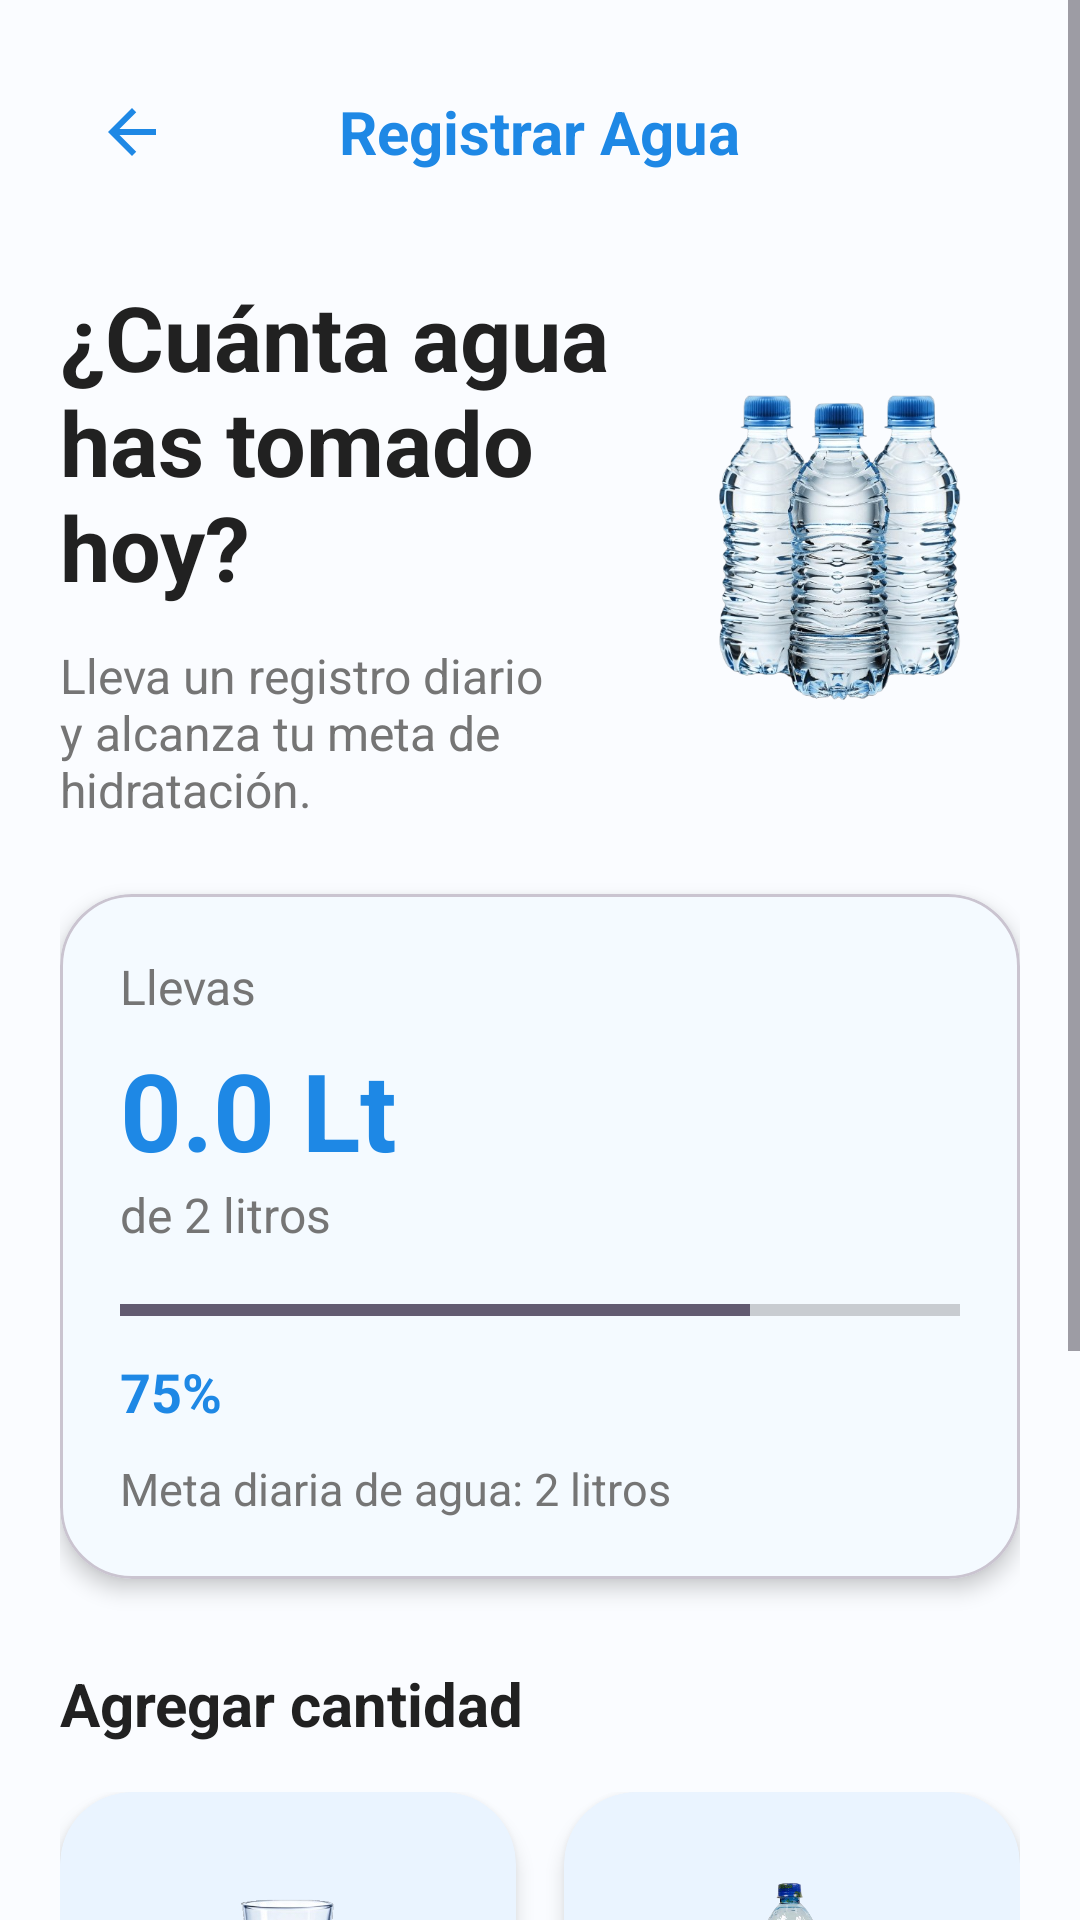

Icons on this 1080px x 1920px Android screen, each with its box as (x1, y1, x2, y2):
regresar: (108, 108, 156, 156)
